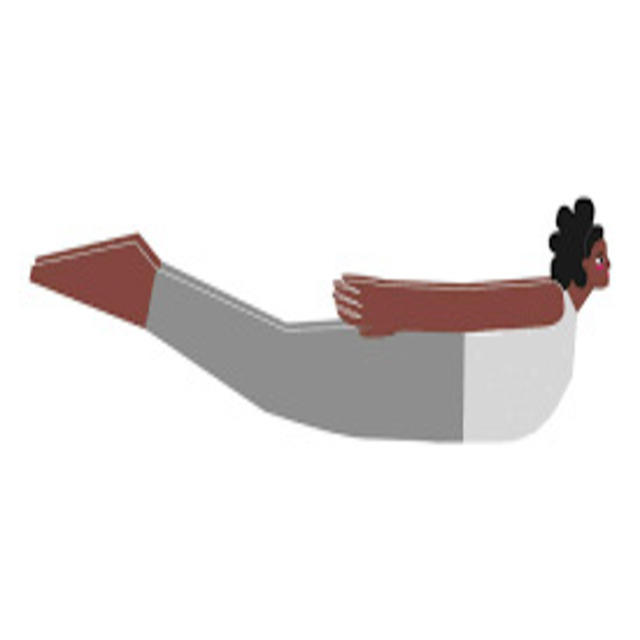Locust_Pose: (26, 198, 614, 446)
